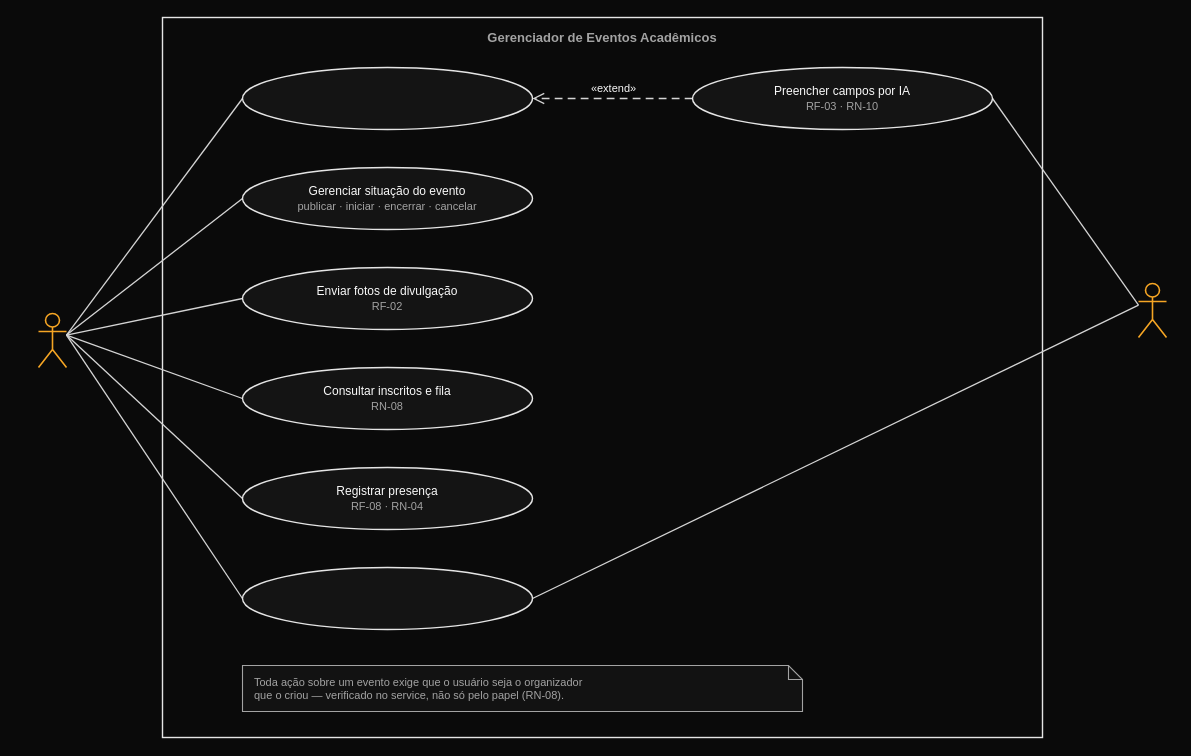
Image size: 1191x756. Some labels were removed from this diagram. Here are the shapes that lost their labels. From the top down, the centre of each, then its label:
At (x=387, y=98): "Criar evento RF-02".
At (x=1152, y=310): "Serviço de IA Groq".
At (x=52, y=340): "Organizador".
At (x=387, y=598): "Gerar resumo das avaliações RF-10 · RN-07".
